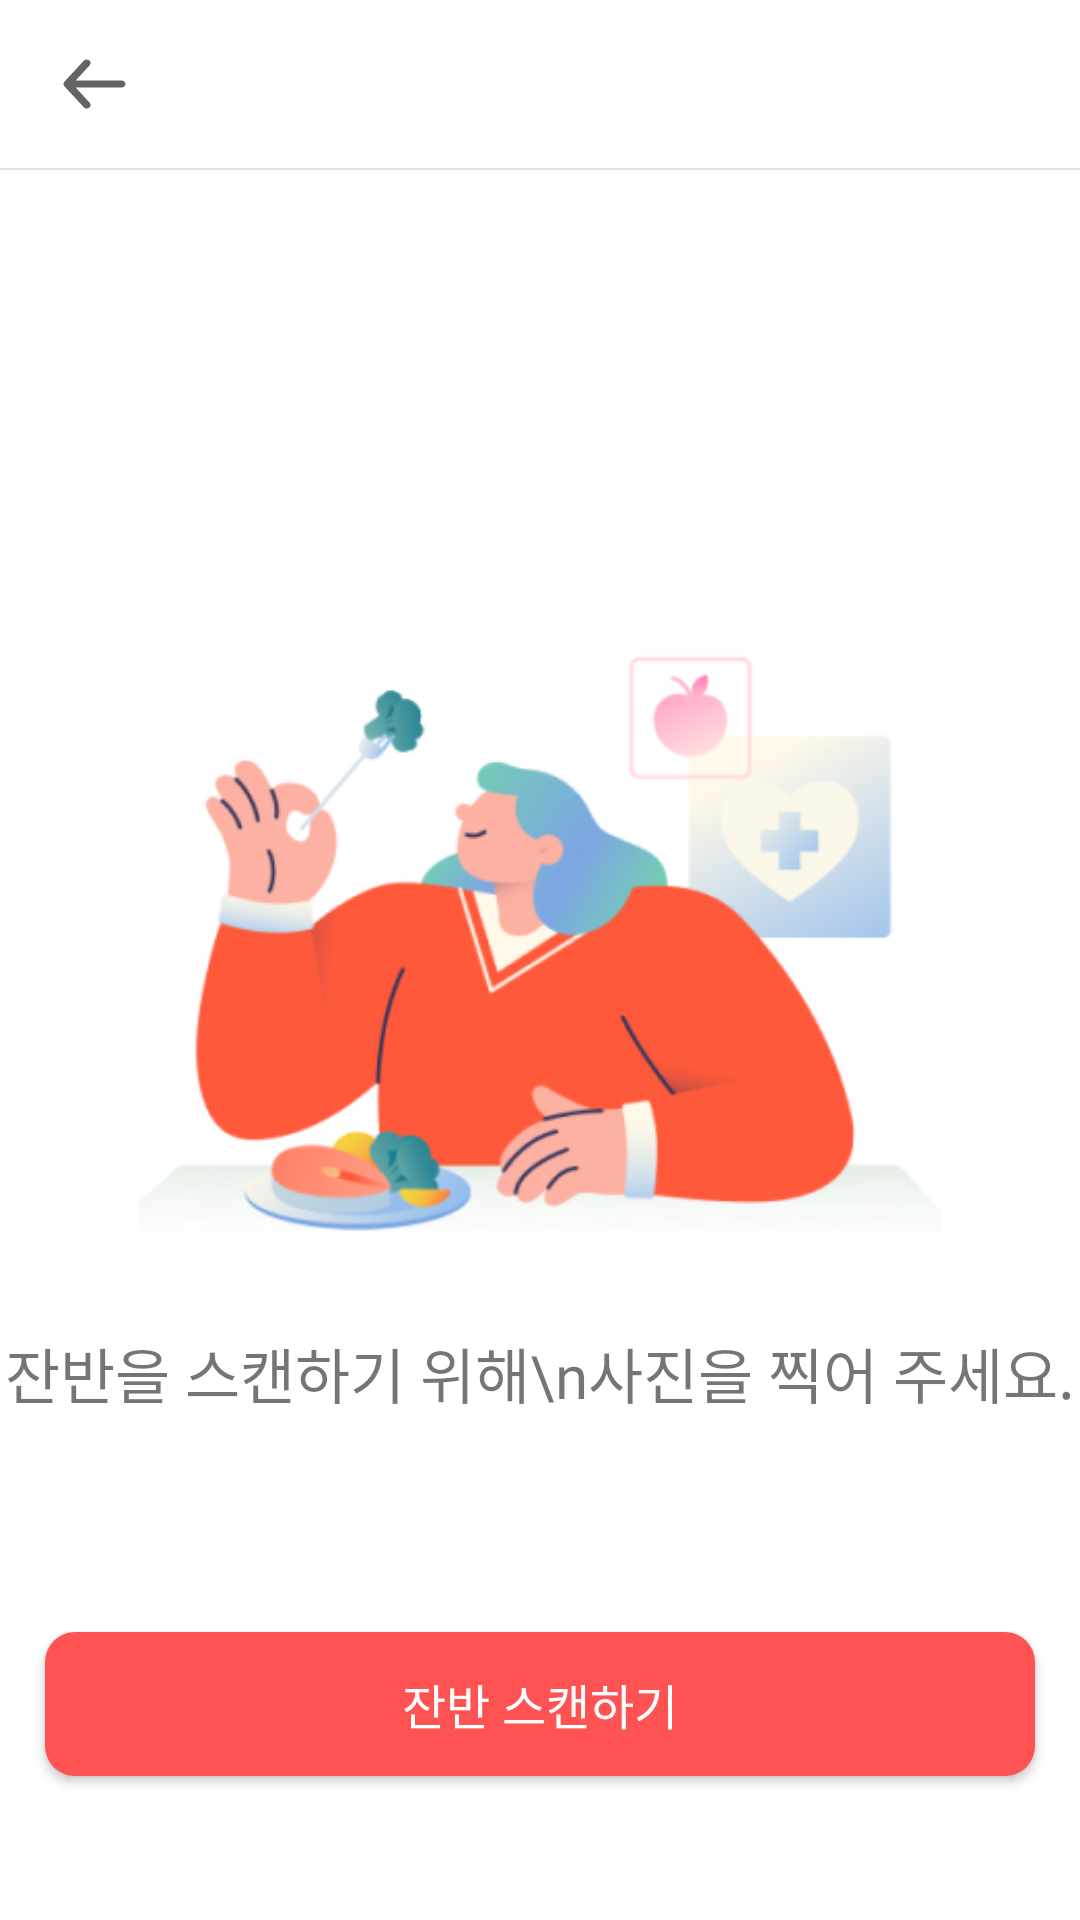

Where to tap for icons on this 1080px x 1920px app screen, as [x,y]:
back: [94,84]
